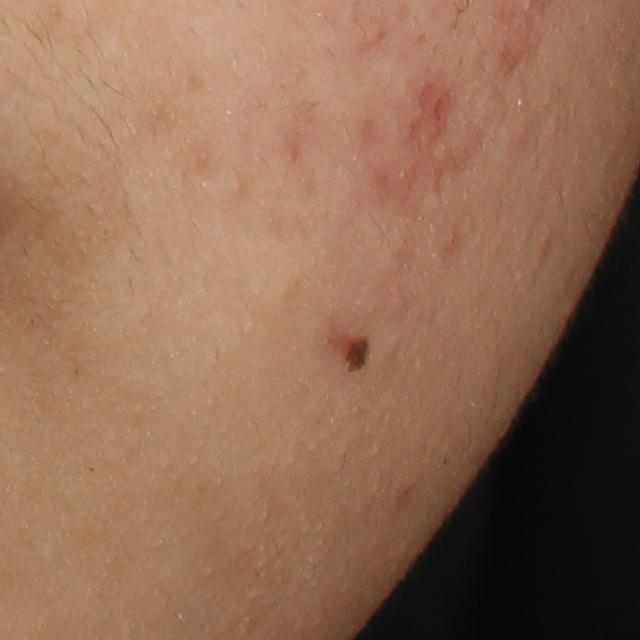nevus: (340, 333, 371, 378)
